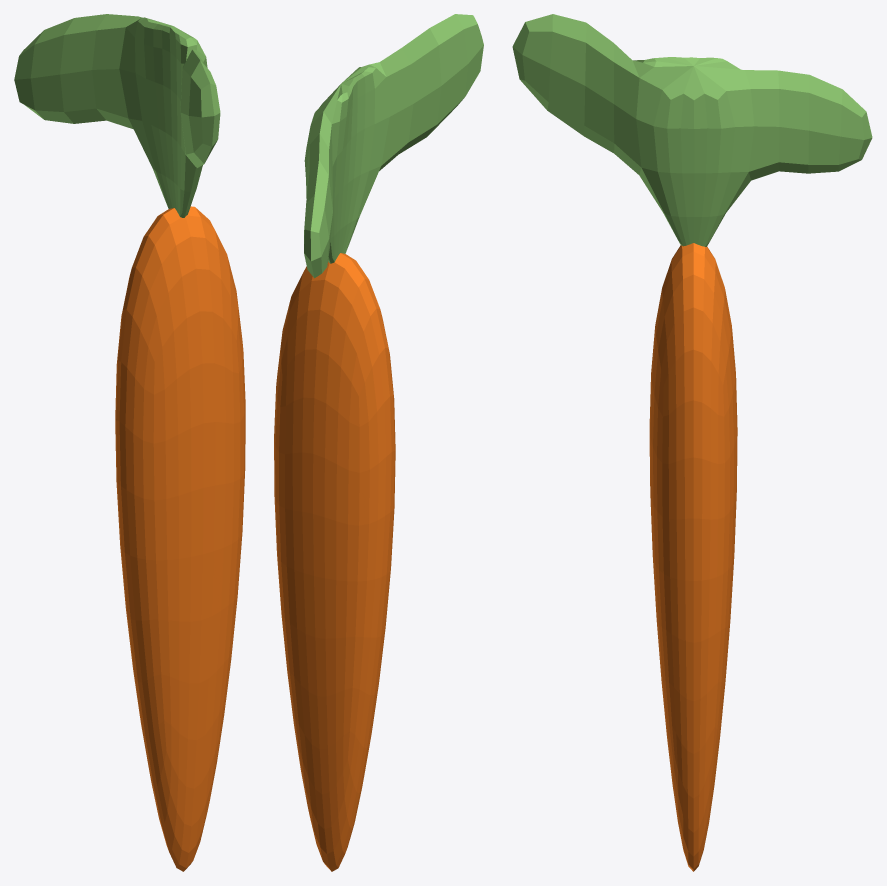
Rendered from WortelTahap1.fbx.
The picture shows the model from 3 angles, left to right: view 1: azimuth 30°, elevation 25°; view 2: azimuth 150°, elevation 25°; view 3: azimuth 270°, elevation 25°; orthographic projection. The views are drawn at different scales.
Parts seen in each view (by area): view 1: WortelTahap1.002; view 2: WortelTahap1.002; view 3: WortelTahap1.002.
Part boxes in pixels (box(x1,y1,x2,y2)): WortelTahap1.002: box(14, 14, 245, 871); WortelTahap1.002: box(274, 14, 483, 871); WortelTahap1.002: box(512, 14, 872, 871).
Bounding box in the file's own units: 3.19 × 19.62 × 7.7.
